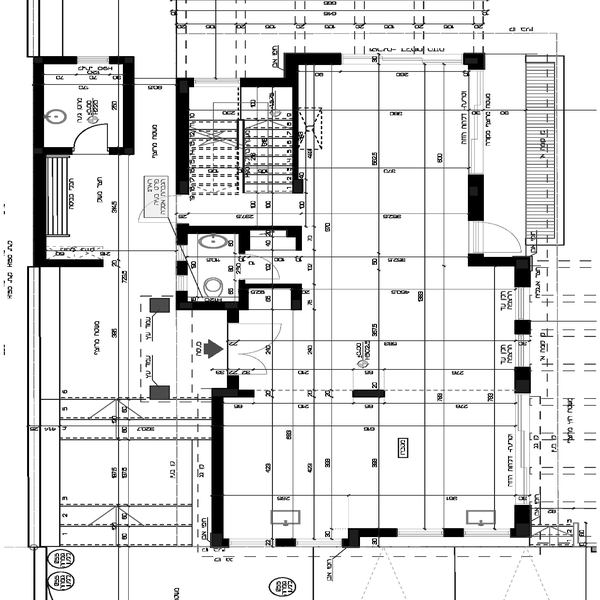door: (225, 314, 284, 381), (468, 211, 529, 261), (69, 121, 112, 158), (239, 249, 285, 282)
room: (202, 385, 542, 543), (296, 52, 482, 272), (284, 252, 539, 394), (33, 153, 177, 269), (174, 76, 311, 197), (28, 46, 140, 157), (175, 230, 304, 317)
wall: (29, 54, 52, 268), (206, 387, 230, 551), (288, 54, 309, 196), (176, 223, 306, 240), (116, 51, 137, 156), (175, 66, 189, 202), (462, 172, 492, 223), (176, 296, 253, 313), (284, 48, 346, 69), (37, 256, 106, 274), (471, 252, 532, 270), (241, 277, 306, 292), (29, 52, 77, 70), (509, 365, 534, 399), (345, 525, 397, 541), (237, 74, 288, 90), (514, 498, 532, 542), (216, 385, 257, 403), (27, 144, 72, 160), (513, 259, 534, 292), (460, 48, 487, 69), (351, 386, 389, 399), (513, 317, 534, 336), (107, 54, 135, 65), (446, 525, 466, 538)
window: (515, 396, 534, 509), (464, 71, 485, 169), (380, 50, 459, 70), (467, 522, 515, 542), (227, 534, 269, 554), (295, 534, 345, 550), (189, 76, 244, 90), (77, 49, 108, 69), (403, 529, 443, 543), (517, 287, 530, 322), (517, 335, 532, 365), (175, 273, 192, 293), (178, 242, 192, 264)
